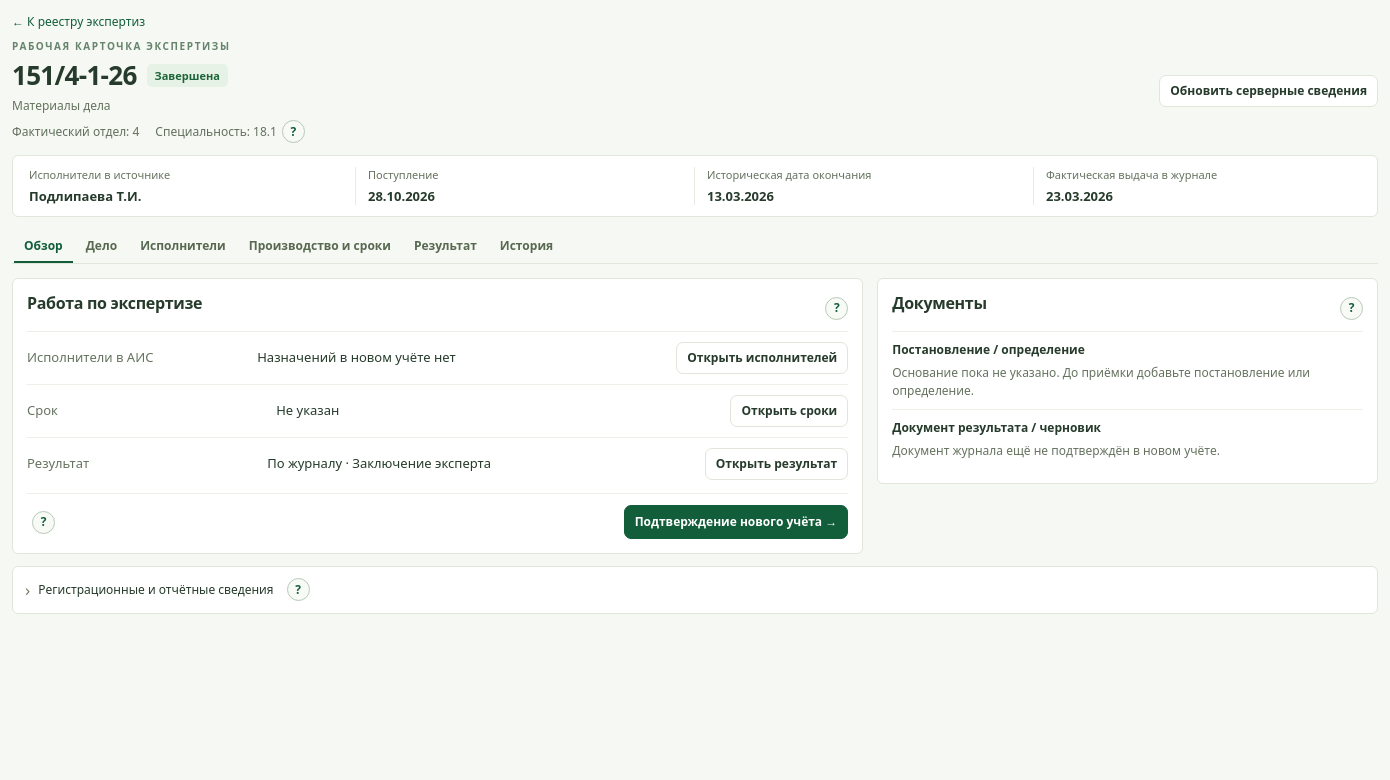
Test: shows work and documents together and uses quick links to open the existing stage
The image size is (1390, 780).
Expected: the element that starts with "Работа по экспертизе" is shown, [12, 278, 1378, 554]
Expected: the element that starts with "Документы" is shown, [877, 278, 1378, 484]
Click the button "Открыть сроки".
click(789, 411)  # box [730, 395, 848, 427]
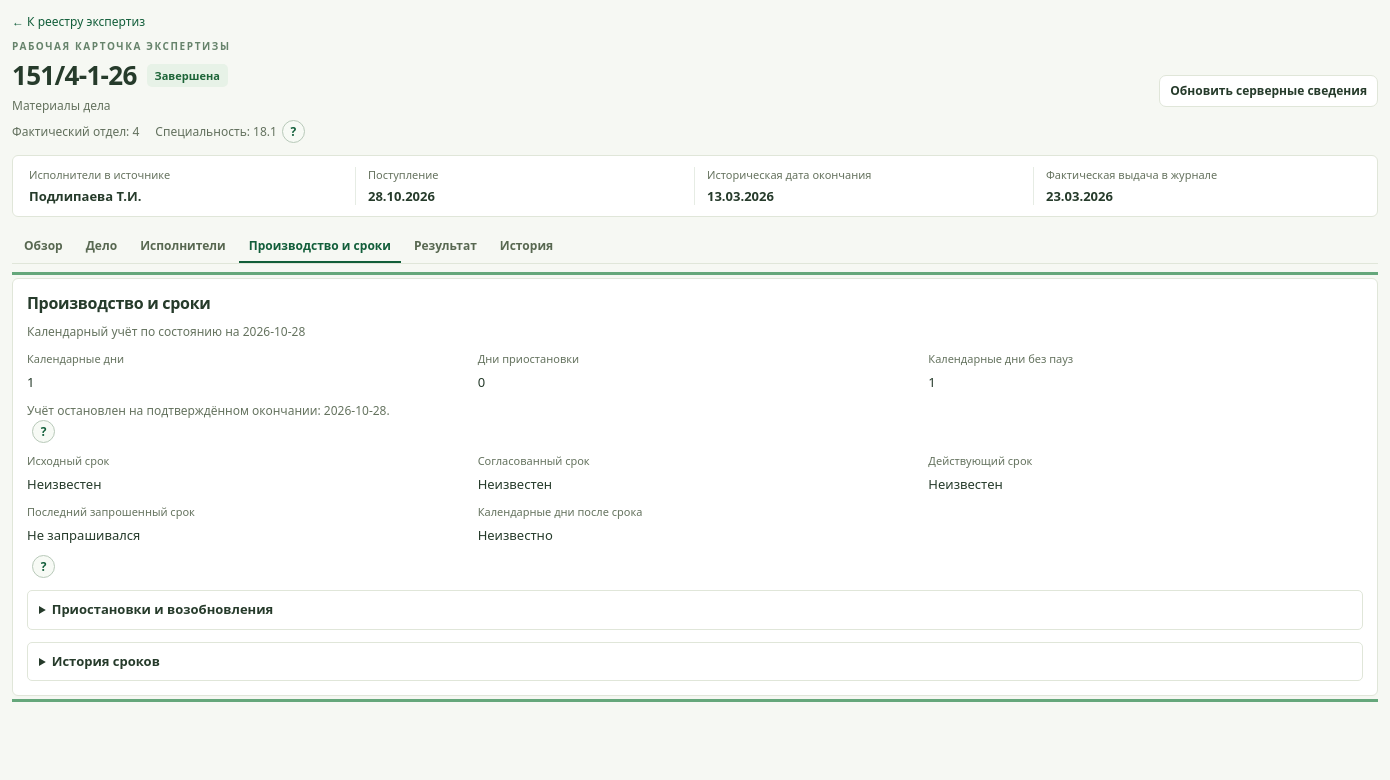
Now the panel is shown, box [12, 278, 1378, 696]
